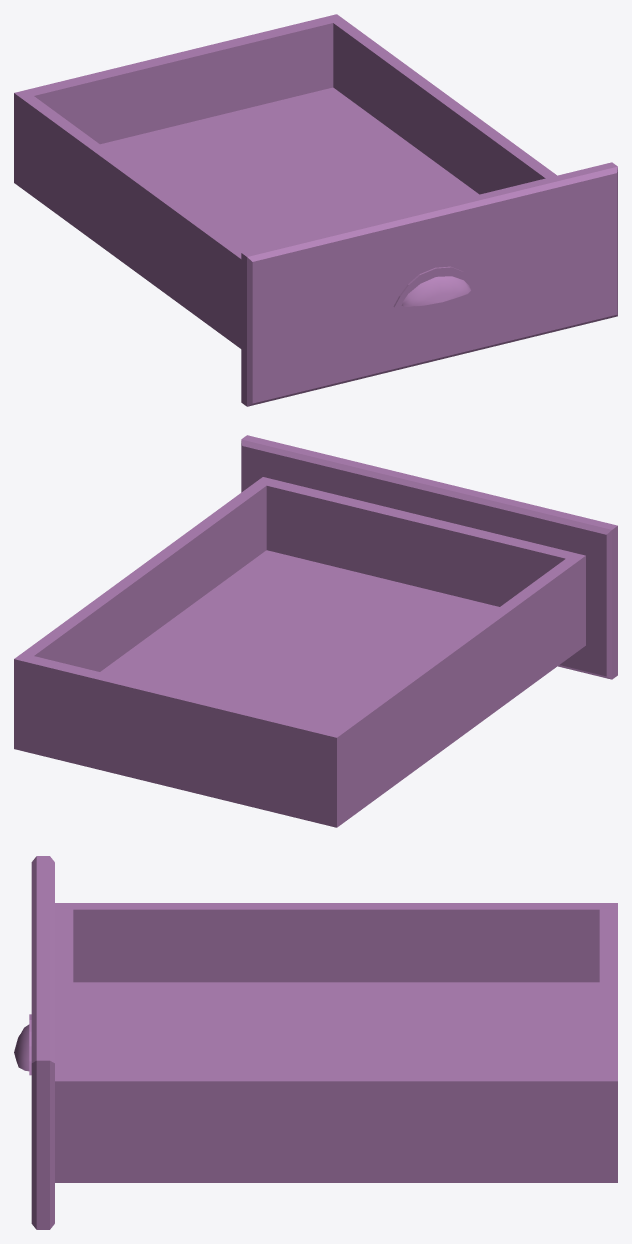
Rendered from TiroireMeubleCuisine.fbx.
3 views of the same model, one above another, from view 1: azimuth 30°, elevation 25°; view 2: azimuth 150°, elevation 25°; view 3: azimuth 270°, elevation 25° (orthographic). The views are drawn at different scales.
Parts seen in each view (by area): view 1: TiroireMeubleCuisine; view 2: TiroireMeubleCuisine; view 3: TiroireMeubleCuisine.
Boxes of the visible parts, bbox=[...] form: TiroireMeubleCuisine: bbox=[14, 14, 617, 406]; TiroireMeubleCuisine: bbox=[14, 435, 617, 827]; TiroireMeubleCuisine: bbox=[14, 856, 617, 1229].
Bounding box in the file's own units: 51.6 × 19.91 × 64.37.
